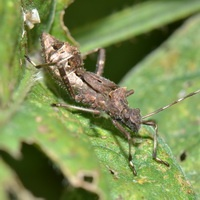insect: (121, 29, 199, 110), (43, 34, 124, 103), (153, 97, 199, 130)
